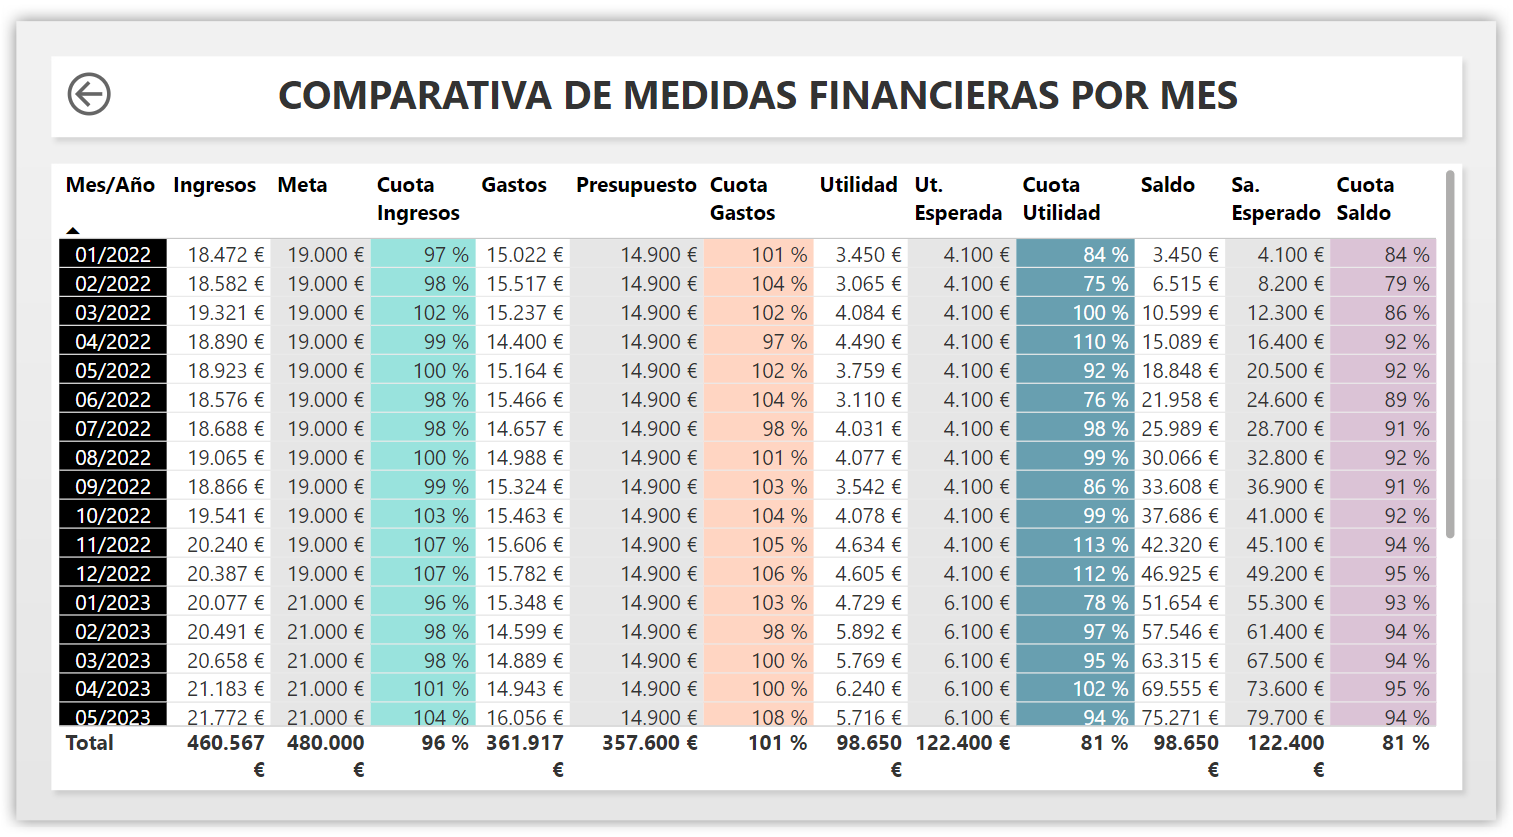

This screenshot's page, from the dashboard's own definition file:
{"tool":"powerbi","page":{"name":"Medidas","canvas":[1280,720],"ordinal":1},"visuals":[{"type":"tableEx","fields":{"Values":["Calendarios.Mes/Año","Finanzas.Ingresos","Expectativas.Meta","Cuotas %.Cuotas Ingresos","Finanzas.Gastos","Expectativas.Presupuesto","Cuotas %.Cuota Gastos","Finanzas.Utilidad","Expectativas.Ut. Esperada","Cuotas %.Cuota Utilidad","Finanzas.Saldo","Expectativas.Sa. Esperado"]},"box":[57.2,143.9,1168.3,518.3],"z":0},{"type":"textbox","box":[58.3,60,1168.3,58.3],"z":1000},{"type":"actionButton","box":[65,60,46.7,55],"z":2000}]}

Visuals, with their boxes in screenshot pixels (x1, y1, x2, y2), scaled from the page's 1280x720 canvas onto the 1513x837 screenshot:
tableEx - Calendarios.Mes/Año x Finanzas.Ingresos: {"x1": 68, "y1": 167, "x2": 1449, "y2": 770}
textbox: {"x1": 69, "y1": 70, "x2": 1450, "y2": 138}
actionButton: {"x1": 77, "y1": 70, "x2": 132, "y2": 134}
